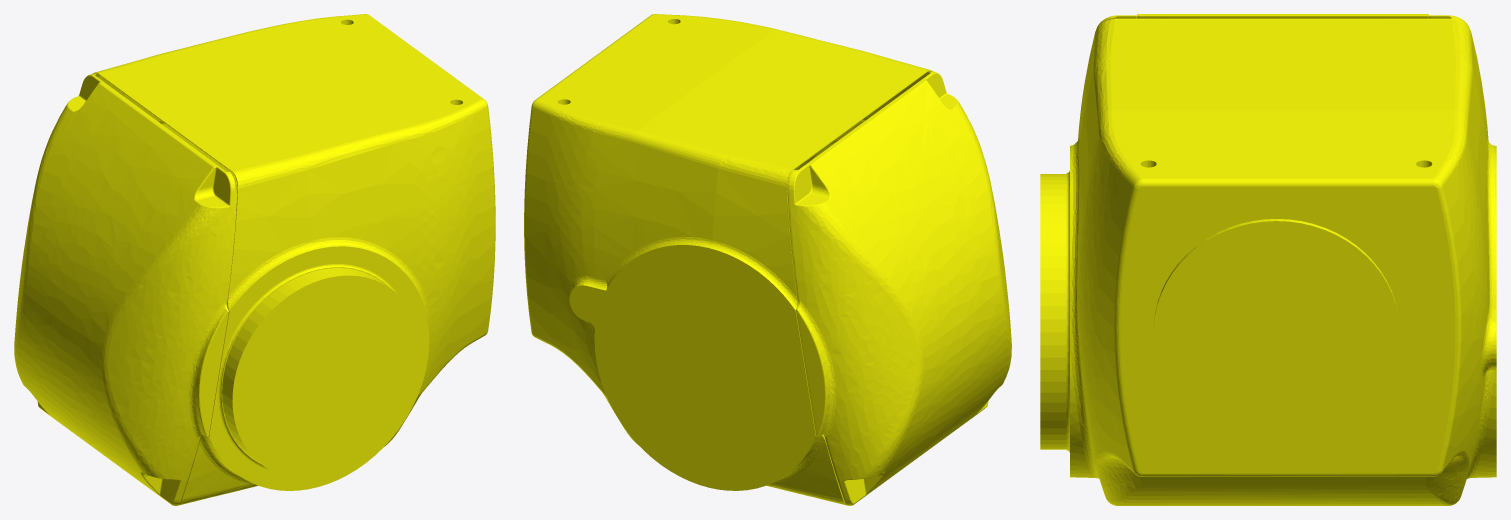
3 views of the same model, side by side, from view 1: azimuth 30°, elevation 25°; view 2: azimuth 150°, elevation 25°; view 3: azimuth 270°, elevation 25° (orthographic). The views are drawn at different scales.
Parts seen in each view (by area): view 1: node0; view 2: node0; view 3: node0.
Boxes of the visible parts, x1,y1,x2,y2 form: node0: [14, 14, 495, 505]; node0: [524, 14, 1011, 505]; node0: [1040, 14, 1496, 505].
Size of the model in its own units: 0.1649 by 0.139 by 0.1384.
